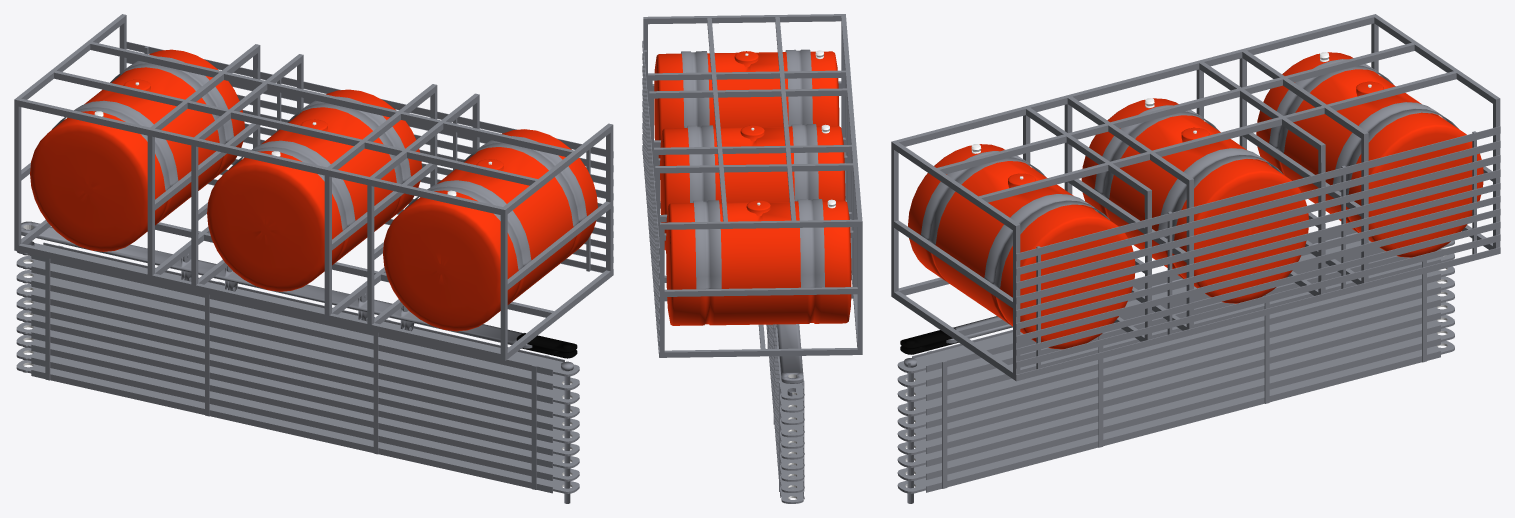
Rendered from smallbuoygrid.dae.
3 renders of one model, left to right at view 1: azimuth 30°, elevation 25°; view 2: azimuth 150°, elevation 25°; view 3: azimuth 270°, elevation 25°, orthographic. The views are drawn at different scales.
Parts seen in each view (by area): view 1: smallbuoygrid.001; view 2: smallbuoygrid.001; view 3: smallbuoygrid.001.
Boxes of the visible parts, x1,y1,x2,y2 form: smallbuoygrid.001: (14,14,613,503); smallbuoygrid.001: (642,14,862,503); smallbuoygrid.001: (891,14,1500,503).
Bounding box in the file's own units: 5.81 × 7.04 × 4.15.
Materials: 4 (4 with a texture image).
